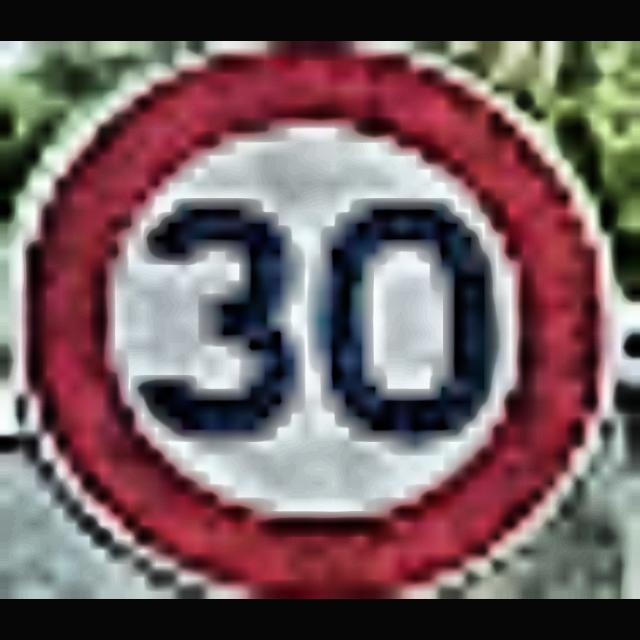speed_30: (0, 41, 640, 599)
